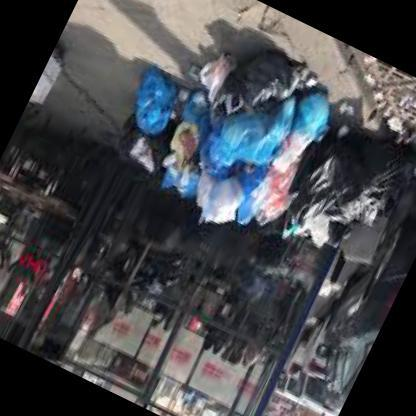Garbage: (170, 29, 341, 232), (93, 41, 252, 213), (272, 118, 416, 263), (172, 42, 284, 162)
